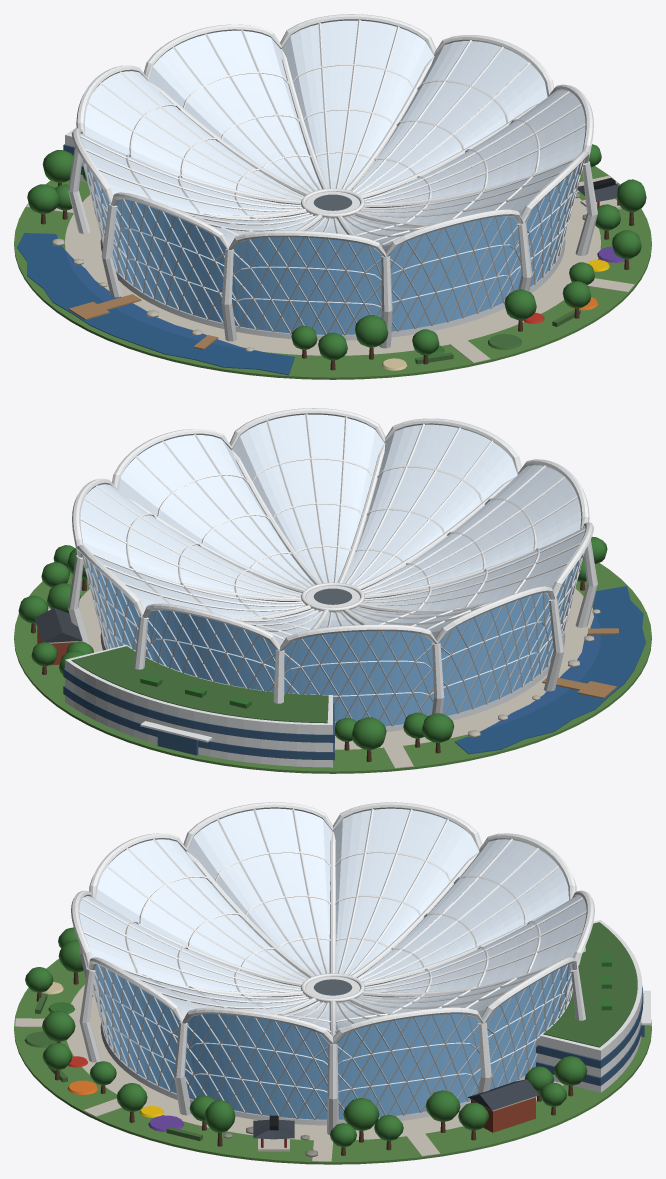
Rendered from seoul-botanic-park.glb.
3 renders of one model, top to bottom at view 1: azimuth 30°, elevation 25°; view 2: azimuth 150°, elevation 25°; view 3: azimuth 270°, elevation 25°, orthographic.
Size of the model in its own units: 127 by 26.98 by 127.
